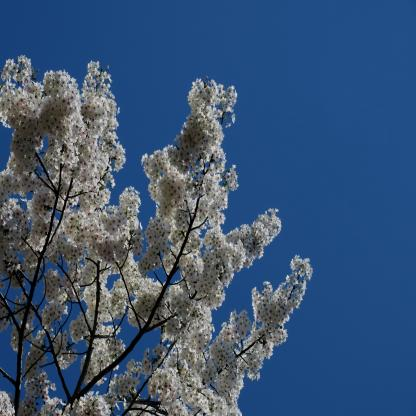OshimaSakura: (0, 54, 313, 416)
